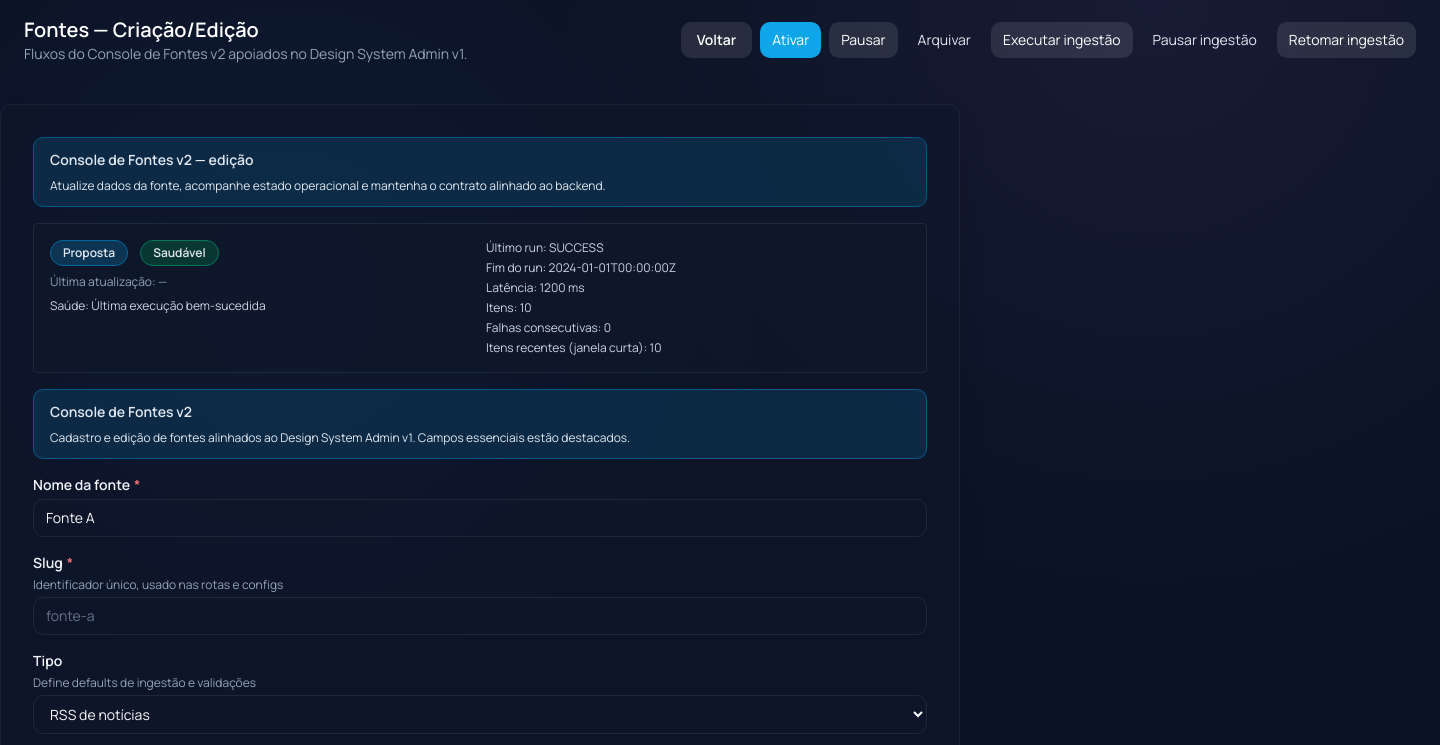
Test: Console de Fontes v2 › altera estado e aciona ingestão manual
The width and height of the screenshot is (1440, 745).
Check: the text "Proposta" is shown, box [50,240,128,266]
Click the button "Ativar" at point(791, 40), box [760,22,821,58]
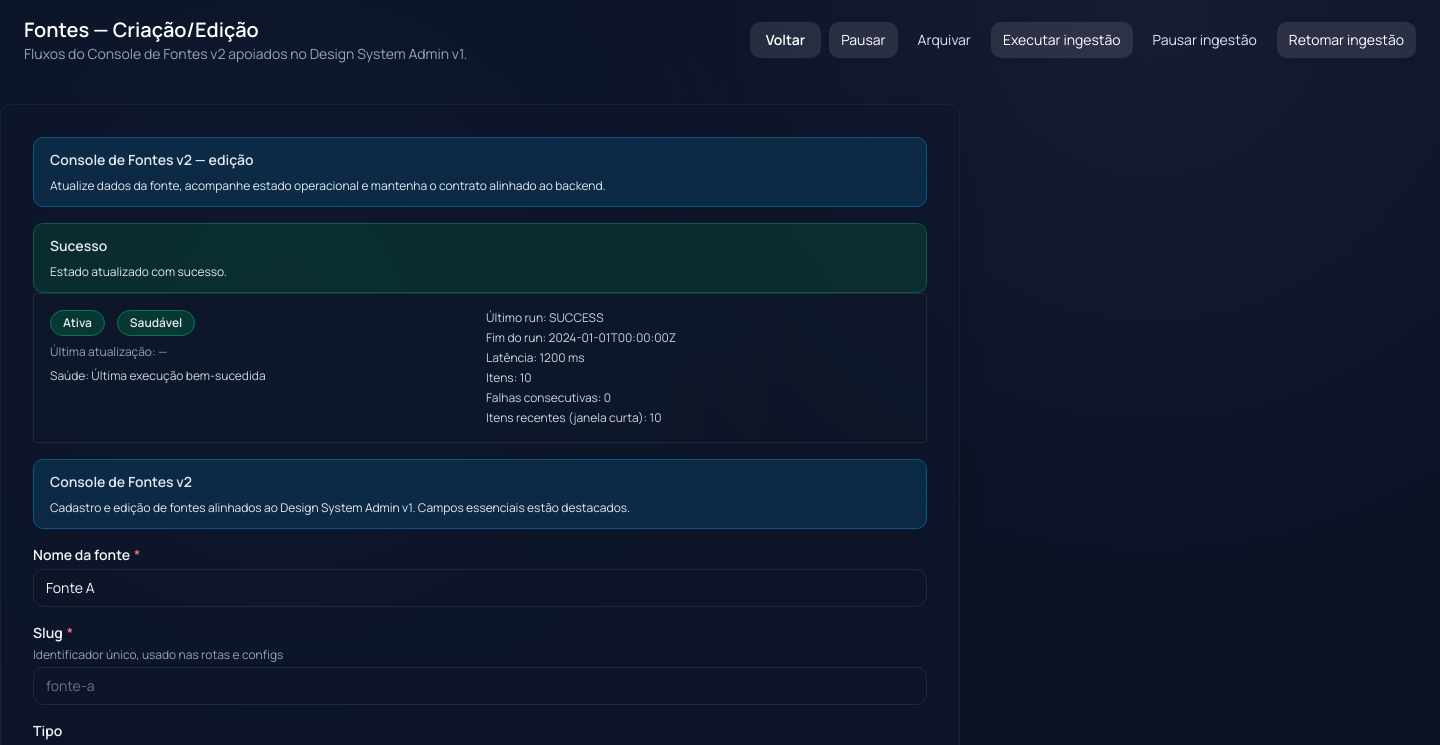
Check: the text "Ativa" is shown, box [50,310,105,336]
Click the button "Executar ingestão" at point(1062, 40), box [991,22,1132,58]
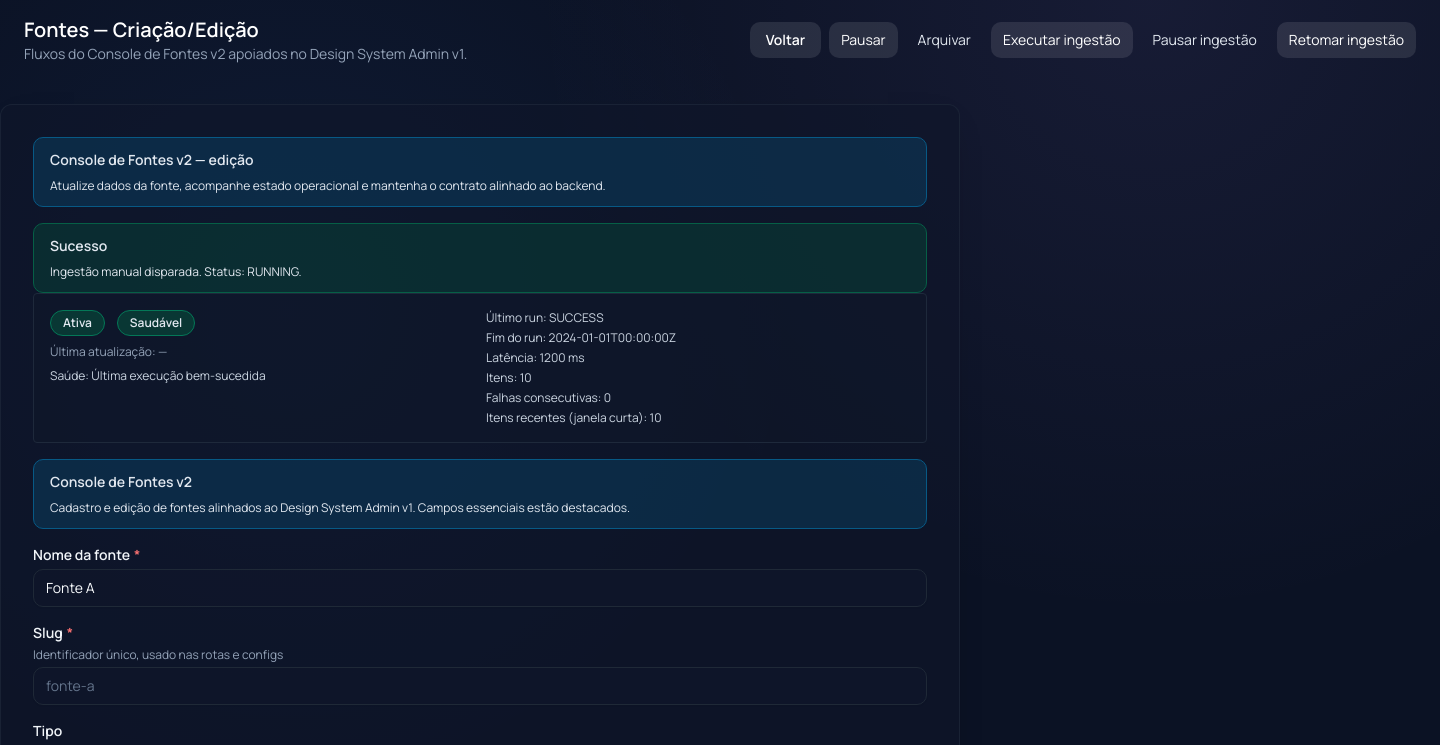
Check: the text "Ingestão manual disparada. Status: RUNNING." is shown, box [50,263,302,280]
